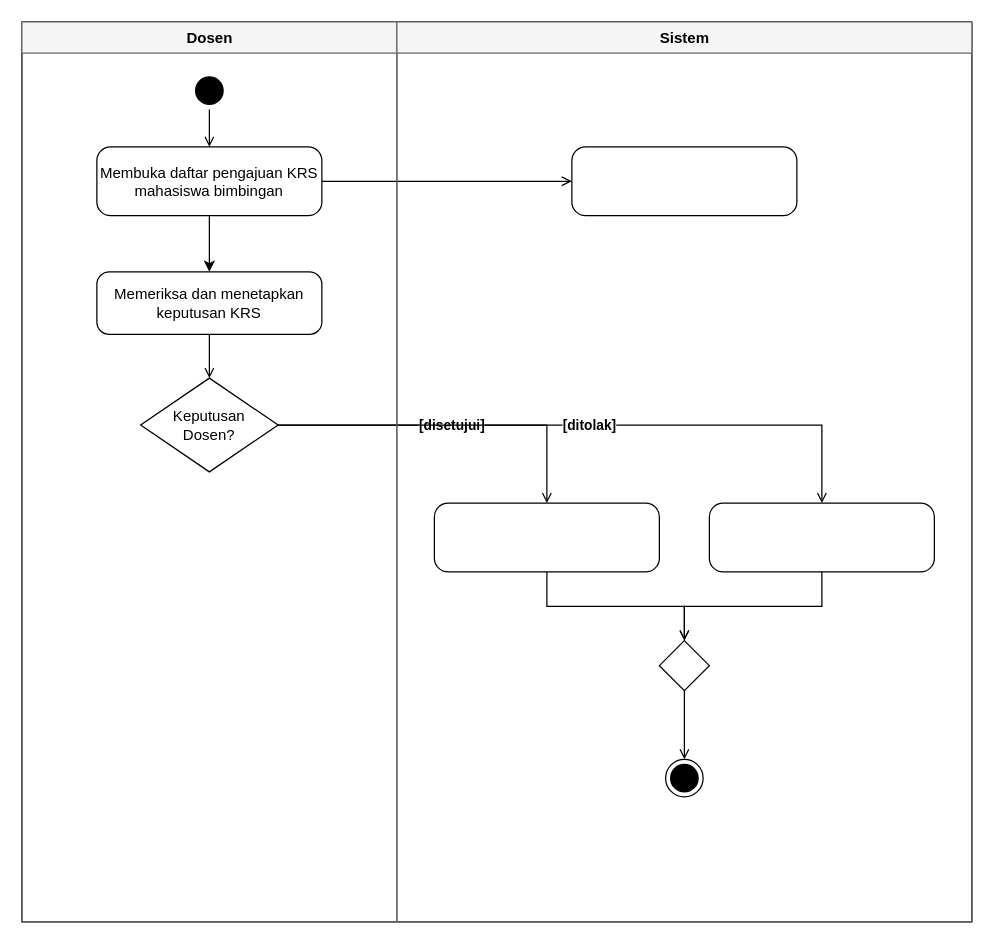
This 994x944 diagram has some shape labels left out. Here are the shapes that lost their labels. From the top down, the centre of each, then its label:
point 684,181: Menampilkan daftar pengajuan KRS berstatus Menunggu Persetujuan
point 546,537: Mengubah status KRS menjadi Disetujui & menerbitkan jadwal kuliah
point 821,537: Mengubah status KRS menjadi Ditolak & menampilkan catatan revisi
